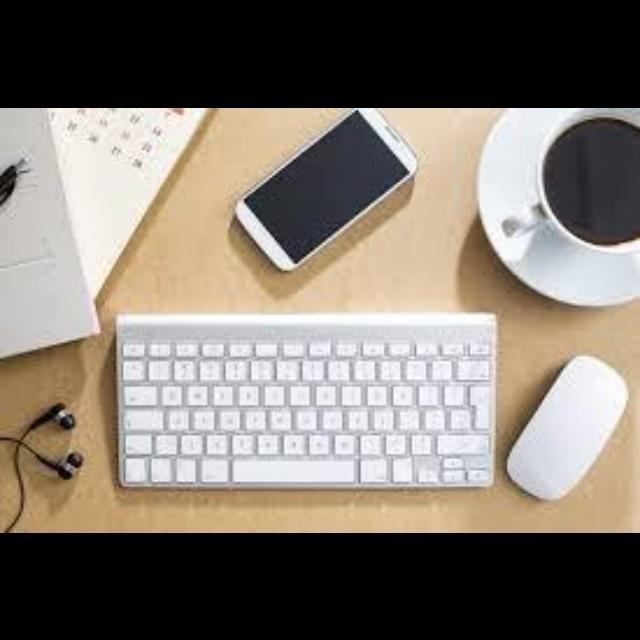Phone: (232, 109, 420, 274)
